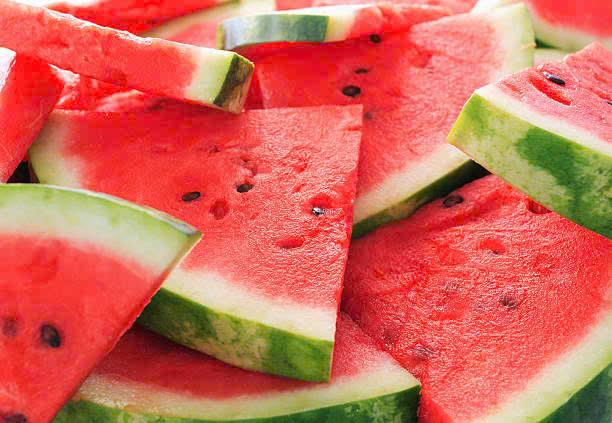watermelon: (61, 100, 358, 376), (251, 13, 612, 216), (349, 223, 612, 423), (0, 182, 184, 414), (0, 0, 240, 112)
